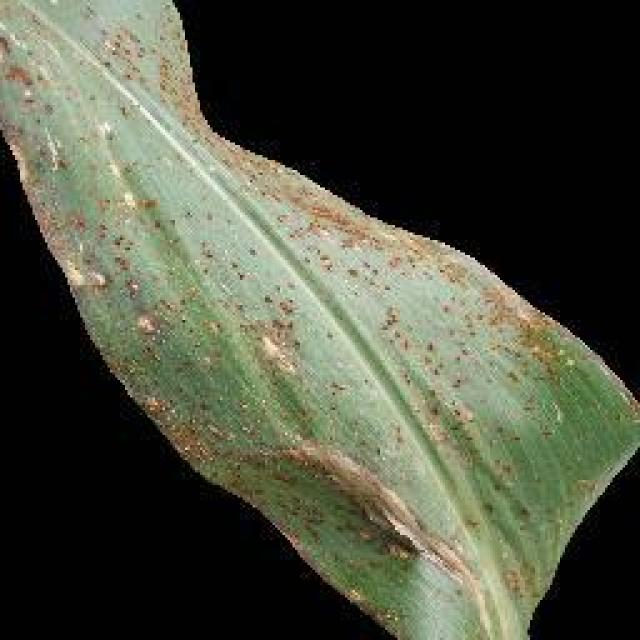Corn Common Rust: (147, 155, 513, 562)
